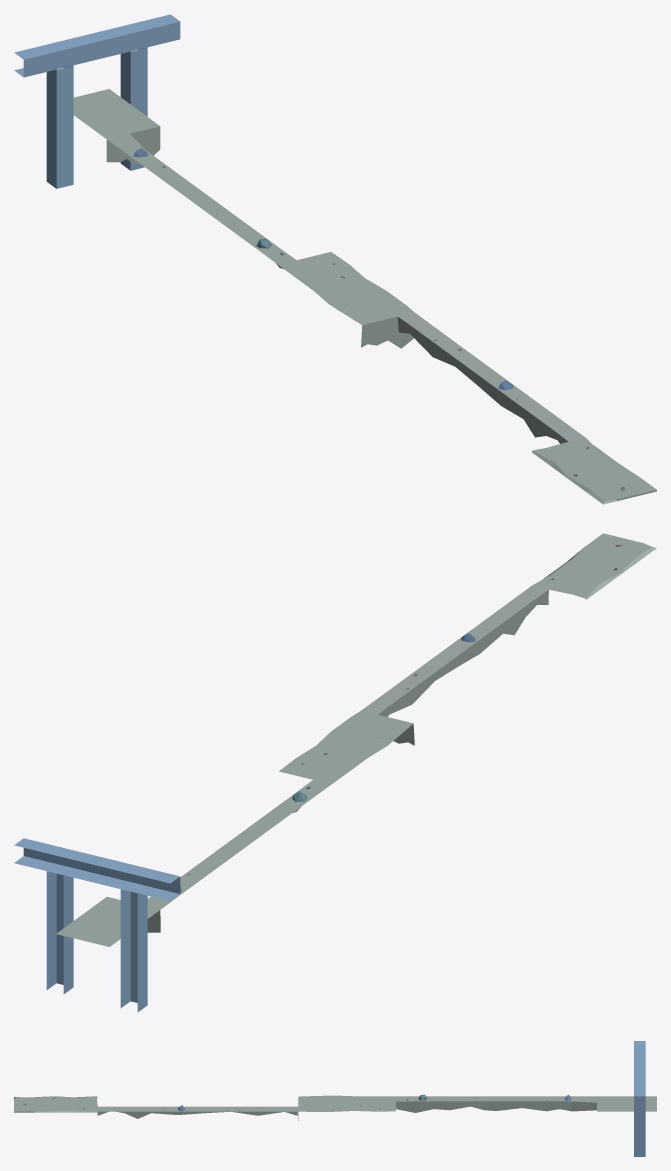
Rendered from obstacle.fbx.
3 renders of one model, top to bottom at view 1: azimuth 30°, elevation 25°; view 2: azimuth 150°, elevation 25°; view 3: azimuth 270°, elevation 25°, orthographic. The views are drawn at different scales.
Visible parts, largest first — view 1: Cube.001, Cube.004; view 2: Cube.001, Cube.004; view 3: Cube.001, Cube.004.
Boxes of the visible parts, box(x1,y1,x2,y2) form: Cube.001: box(73, 89, 656, 504); Cube.004: box(14, 14, 180, 188); Cube.001: box(56, 533, 656, 946); Cube.004: box(14, 838, 180, 1012); Cube.001: box(14, 1095, 656, 1120); Cube.004: box(634, 1041, 645, 1156).
Size of the model in its own units: 41261 by 34538 by 249961.
